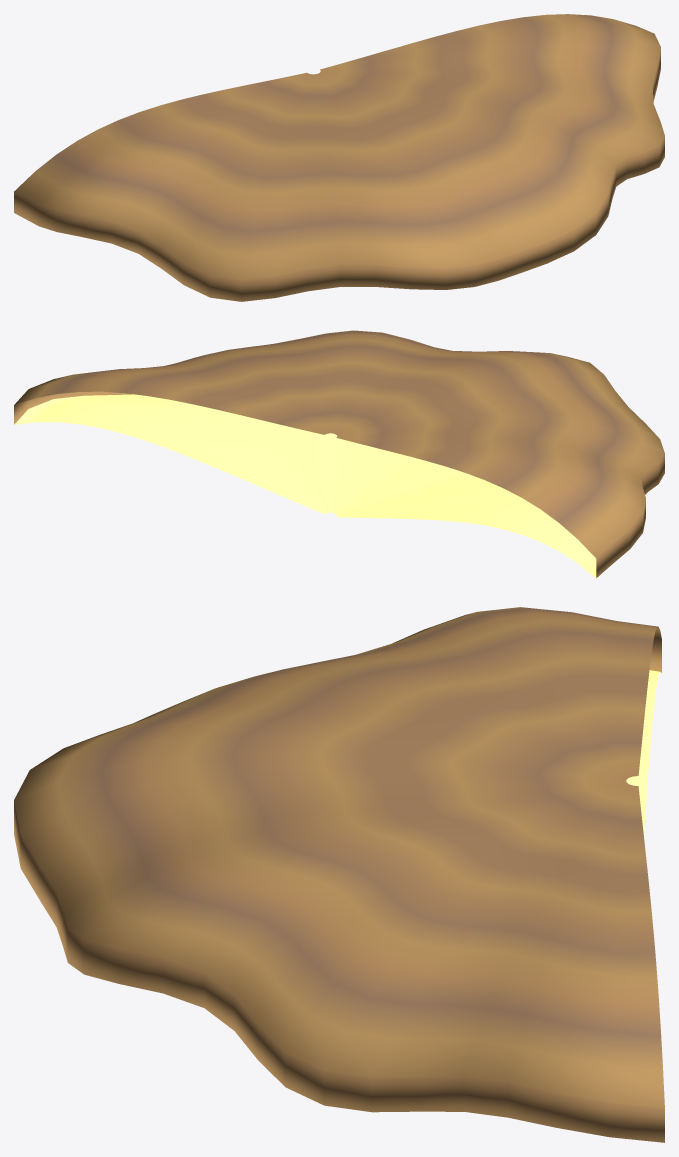
Rendered from shelfcap.glb.
3 renders of one model, top to bottom at view 1: azimuth 30°, elevation 25°; view 2: azimuth 150°, elevation 25°; view 3: azimuth 270°, elevation 25°, orthographic. The views are drawn at different scales.
Parts seen in each view (by area): view 1: shelfcap; view 2: shelfcap; view 3: shelfcap.
Boxes of the visible parts, box(x1,y1,x2,y2) form: shelfcap: box(14, 14, 664, 301); shelfcap: box(14, 330, 664, 578); shelfcap: box(14, 607, 664, 1142).
Bounding box in the file's own units: 2.02 × 0.2666 × 1.12.
